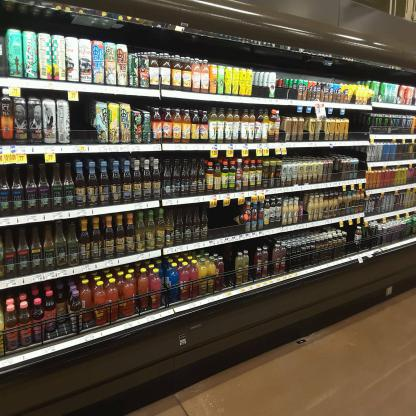Void: (72, 101, 88, 138), (211, 208, 232, 229), (352, 113, 364, 136)
